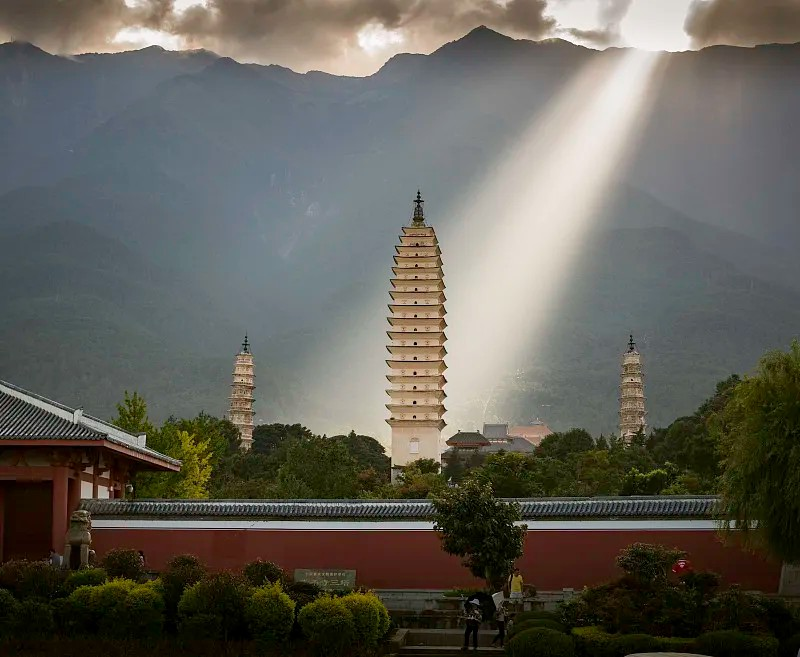ThreePagoda: (385, 191, 448, 467)
